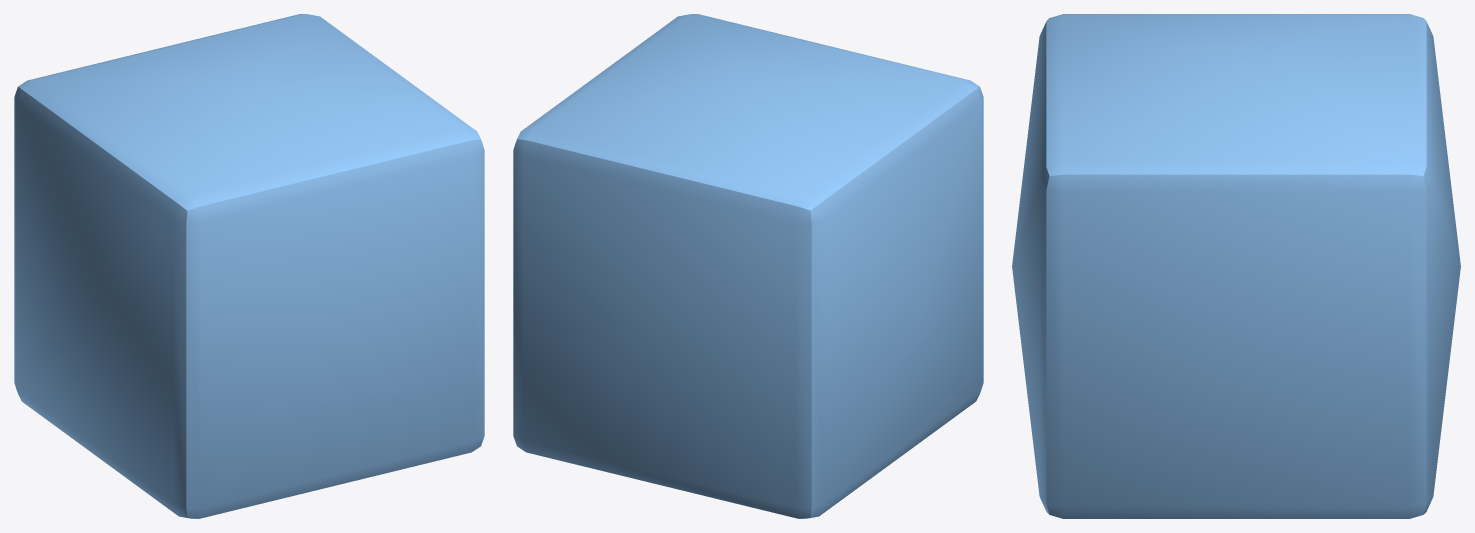
The model's file is faceted.glb.
3 views of the same model, side by side, from view 1: azimuth 30°, elevation 25°; view 2: azimuth 150°, elevation 25°; view 3: azimuth 270°, elevation 25° (orthographic). The views are drawn at different scales.
Visible parts, largest first — view 1: block_faceted; view 2: block_faceted; view 3: block_faceted.
Part boxes in pixels (x1,y1,x2,y2): block_faceted: [14, 14, 484, 518]; block_faceted: [513, 14, 983, 518]; block_faceted: [1012, 14, 1460, 518].
Size of the model in its own units: 1.14 by 1.14 by 1.14.
